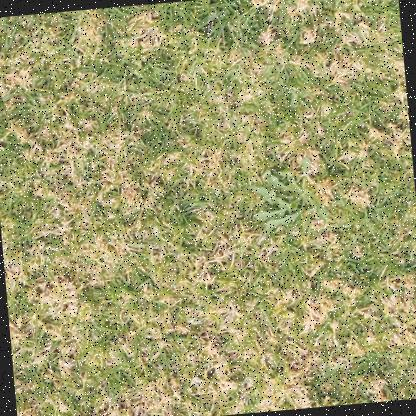Weeds: (250, 156, 330, 230)
